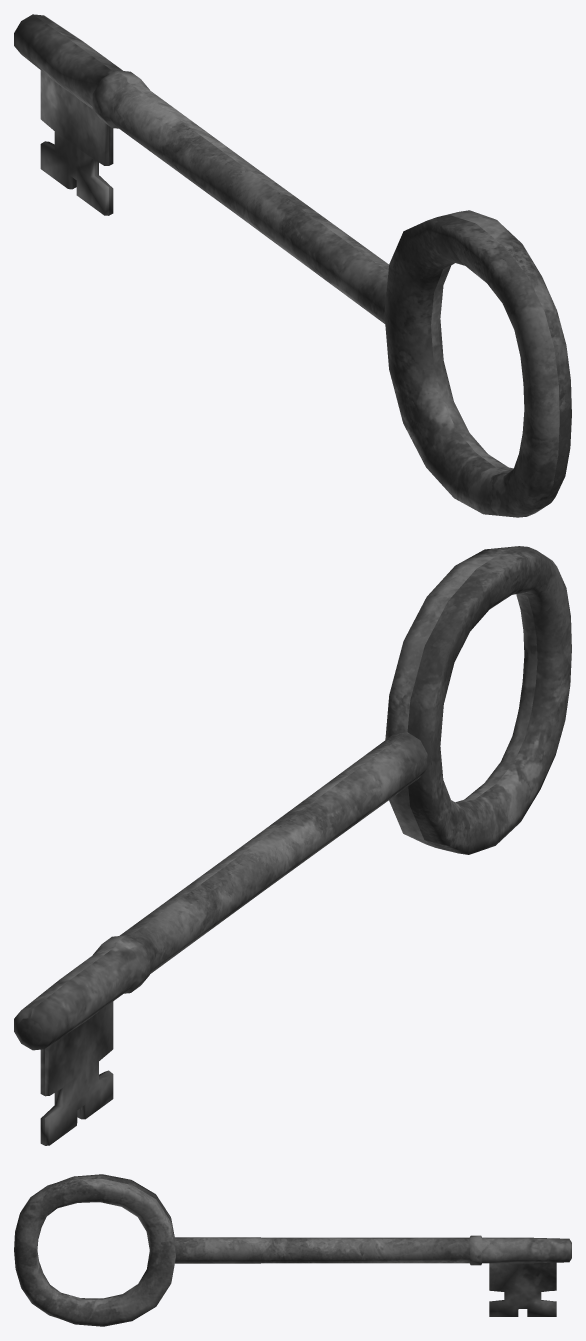
File: key.glb
The picture shows the model from 3 angles, top to bottom: view 1: azimuth 30°, elevation 25°; view 2: azimuth 150°, elevation 25°; view 3: azimuth 270°, elevation 25°; orthographic projection. The views are drawn at different scales.
Visible parts, largest first — view 1: Cube; view 2: Cube; view 3: Cube.
Boxes of the visible parts, box(x1,y1,x2,y2) form: Cube: box(14, 14, 571, 517); Cube: box(14, 546, 571, 1145); Cube: box(14, 1174, 571, 1326).
Size of the model in its own units: 0.1003 by 0.5546 by 1.96.
Materials: 1 (1 with a texture image).
